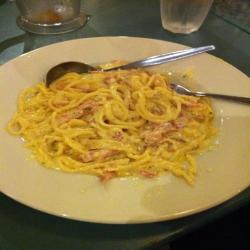carbonara: (19, 56, 233, 201)
